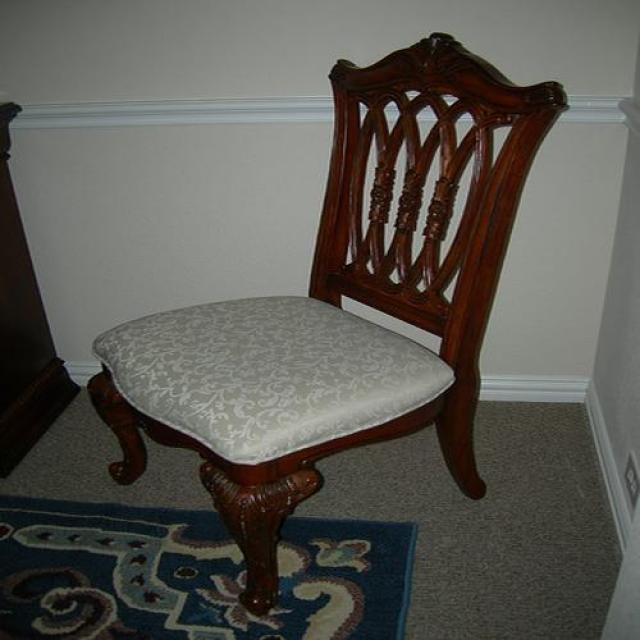chair: (91, 33, 570, 620)
